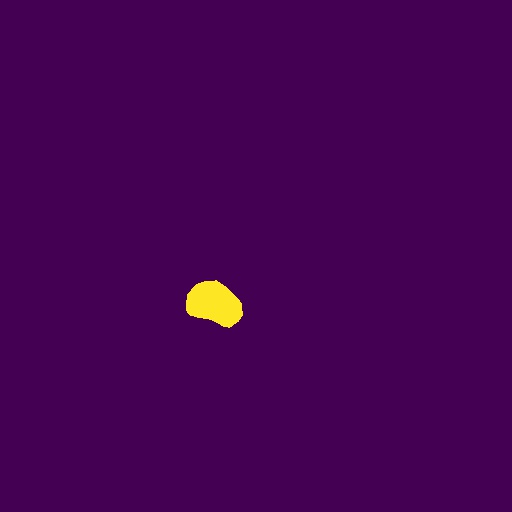Pituirity_tumour: (186, 280, 243, 328)
